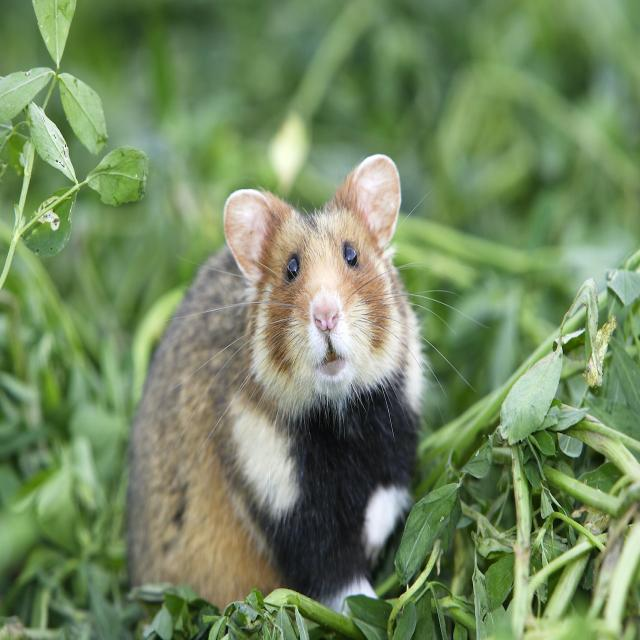hamster: (131, 154, 426, 605)
